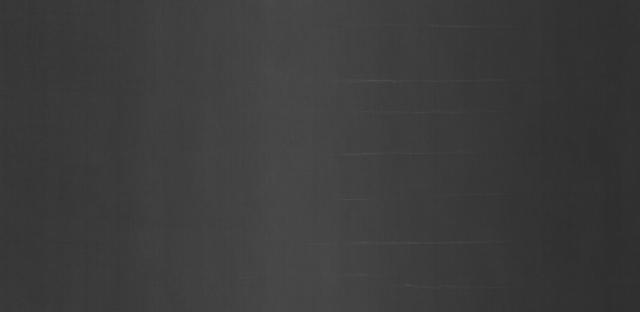waist_folding: (323, 22, 527, 296)
